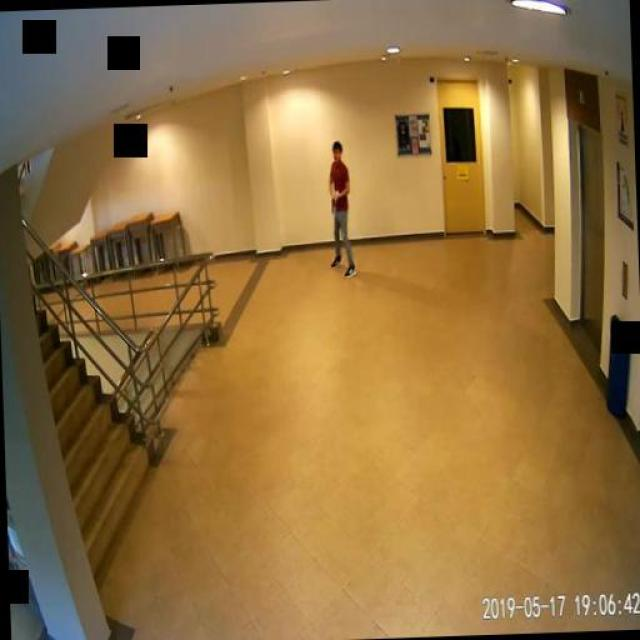gun: (327, 192, 335, 212)
